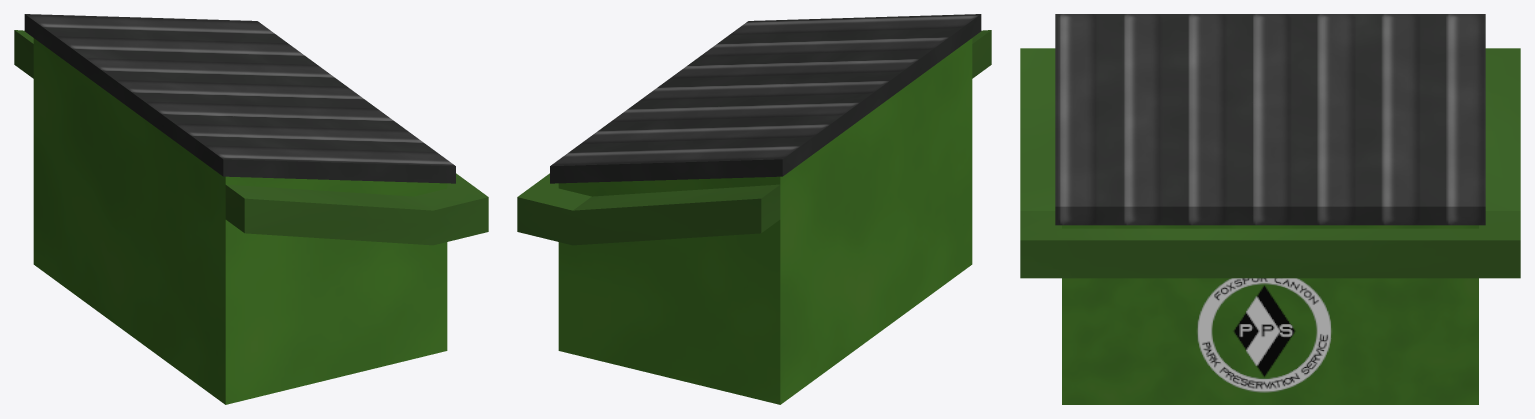
The model's file is mod_structure_dumpster.fbx.
3 views of the same model, side by side, from view 1: azimuth 30°, elevation 25°; view 2: azimuth 150°, elevation 25°; view 3: azimuth 270°, elevation 25° (orthographic). The views are drawn at different scales.
Parts seen in each view (by area): view 1: mesh_dumpster; view 2: mesh_dumpster; view 3: mesh_dumpster.
Boxes of the visible parts, x1,y1,x2,y2 form: mesh_dumpster: (14,14,488,404); mesh_dumpster: (517,14,991,404); mesh_dumpster: (1020,14,1520,404).
Bounding box in the file's own units: 450 × 430 × 720.
